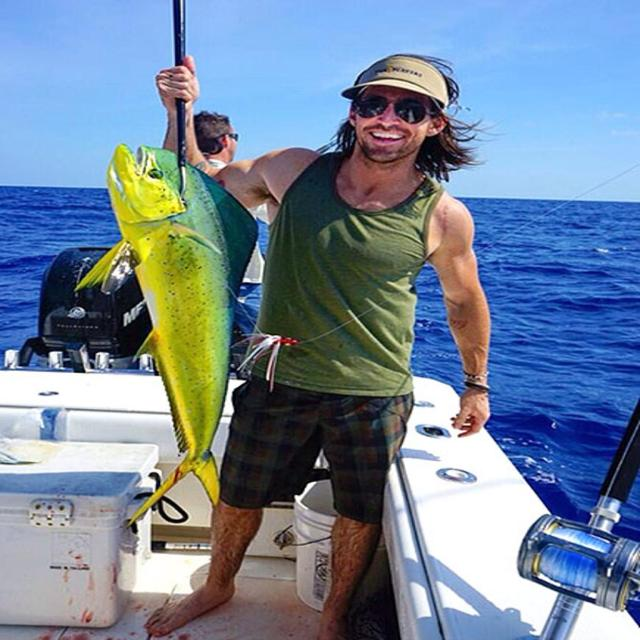Face: (312, 72, 460, 171)
